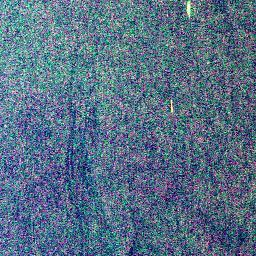Ship: (166, 92, 175, 119), (183, 0, 194, 15)
